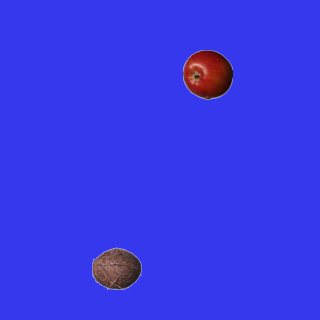Apple Braeburn: (182, 49, 232, 99)
Cocos: (91, 243, 141, 293)
